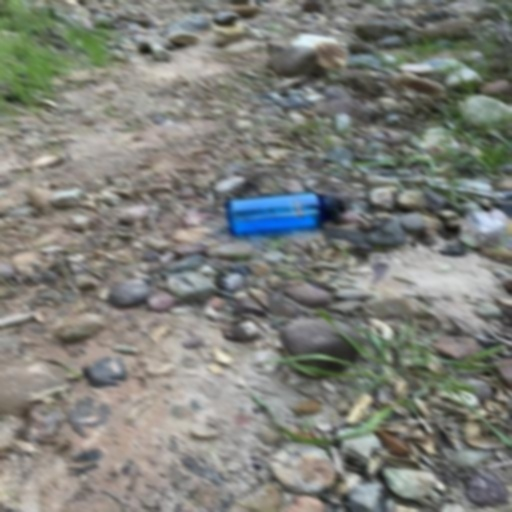bottle: (226, 190, 346, 236)
